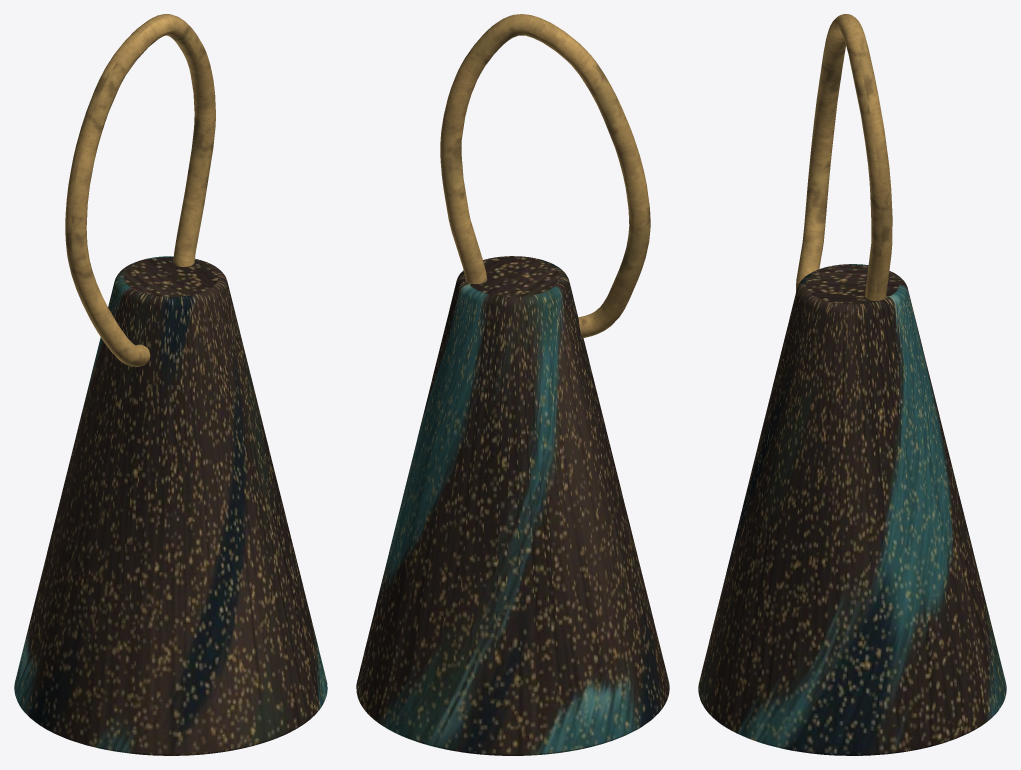
Rendered from king-black.glb.
3 views of the same model, side by side, from view 1: azimuth 30°, elevation 25°; view 2: azimuth 150°, elevation 25°; view 3: azimuth 270°, elevation 25° (orthographic).
Visible parts, largest first — view 1: Telo, Smycka; view 2: Telo, Smycka; view 3: Telo, Smycka.
Part boxes in pixels (x1,y1,x2,y2): Telo: (14, 256, 327, 755); Smycka: (65, 14, 215, 366); Telo: (356, 256, 669, 755); Smycka: (440, 14, 650, 337); Telo: (698, 264, 1006, 755); Smycka: (796, 14, 892, 300).
Size of the model in its own units: 0.6367 by 1.52 by 0.6367.
2 materials, 2 textured.
